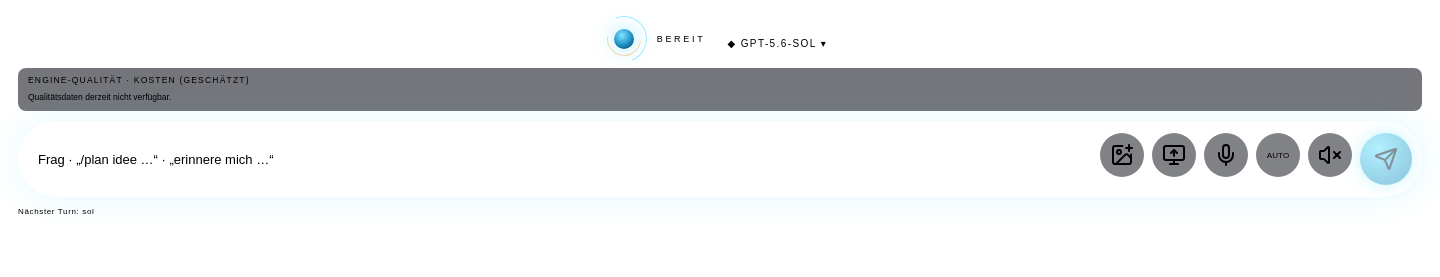
Scenario: JarvisChat S3.6 — Push-to-Talk (Mic → /api/audio/transcribe) › Permission denied → deutsche Meldung (role=alert), kein Absturz, Input leer
The image size is (1440, 277).
What coordinates should you click on to do the following:
click the button named "Diktieren"
I would click on:
 (1226, 155)
Its box is [1204,133,1248,177].
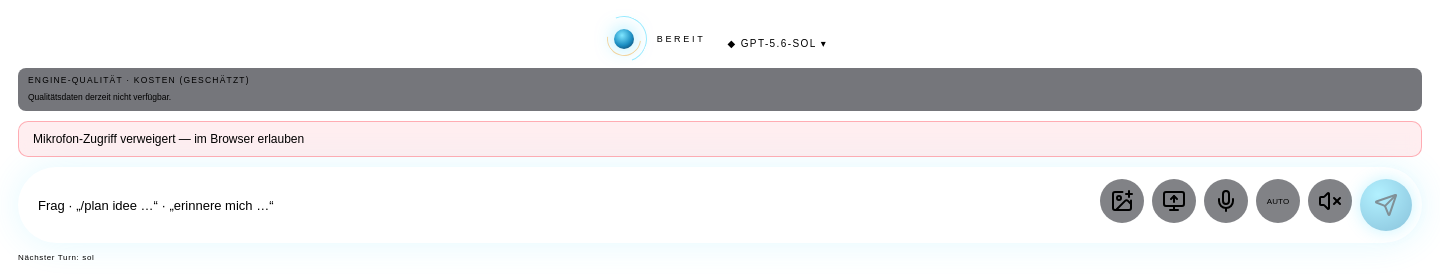
Check: the field named "Nachricht an Jarvis" is empty, box [38,183,1090,227]
Check: the message reads "Mikrofon-Zugriff verweigert — im Browser erlauben", box [33,132,304,146]
